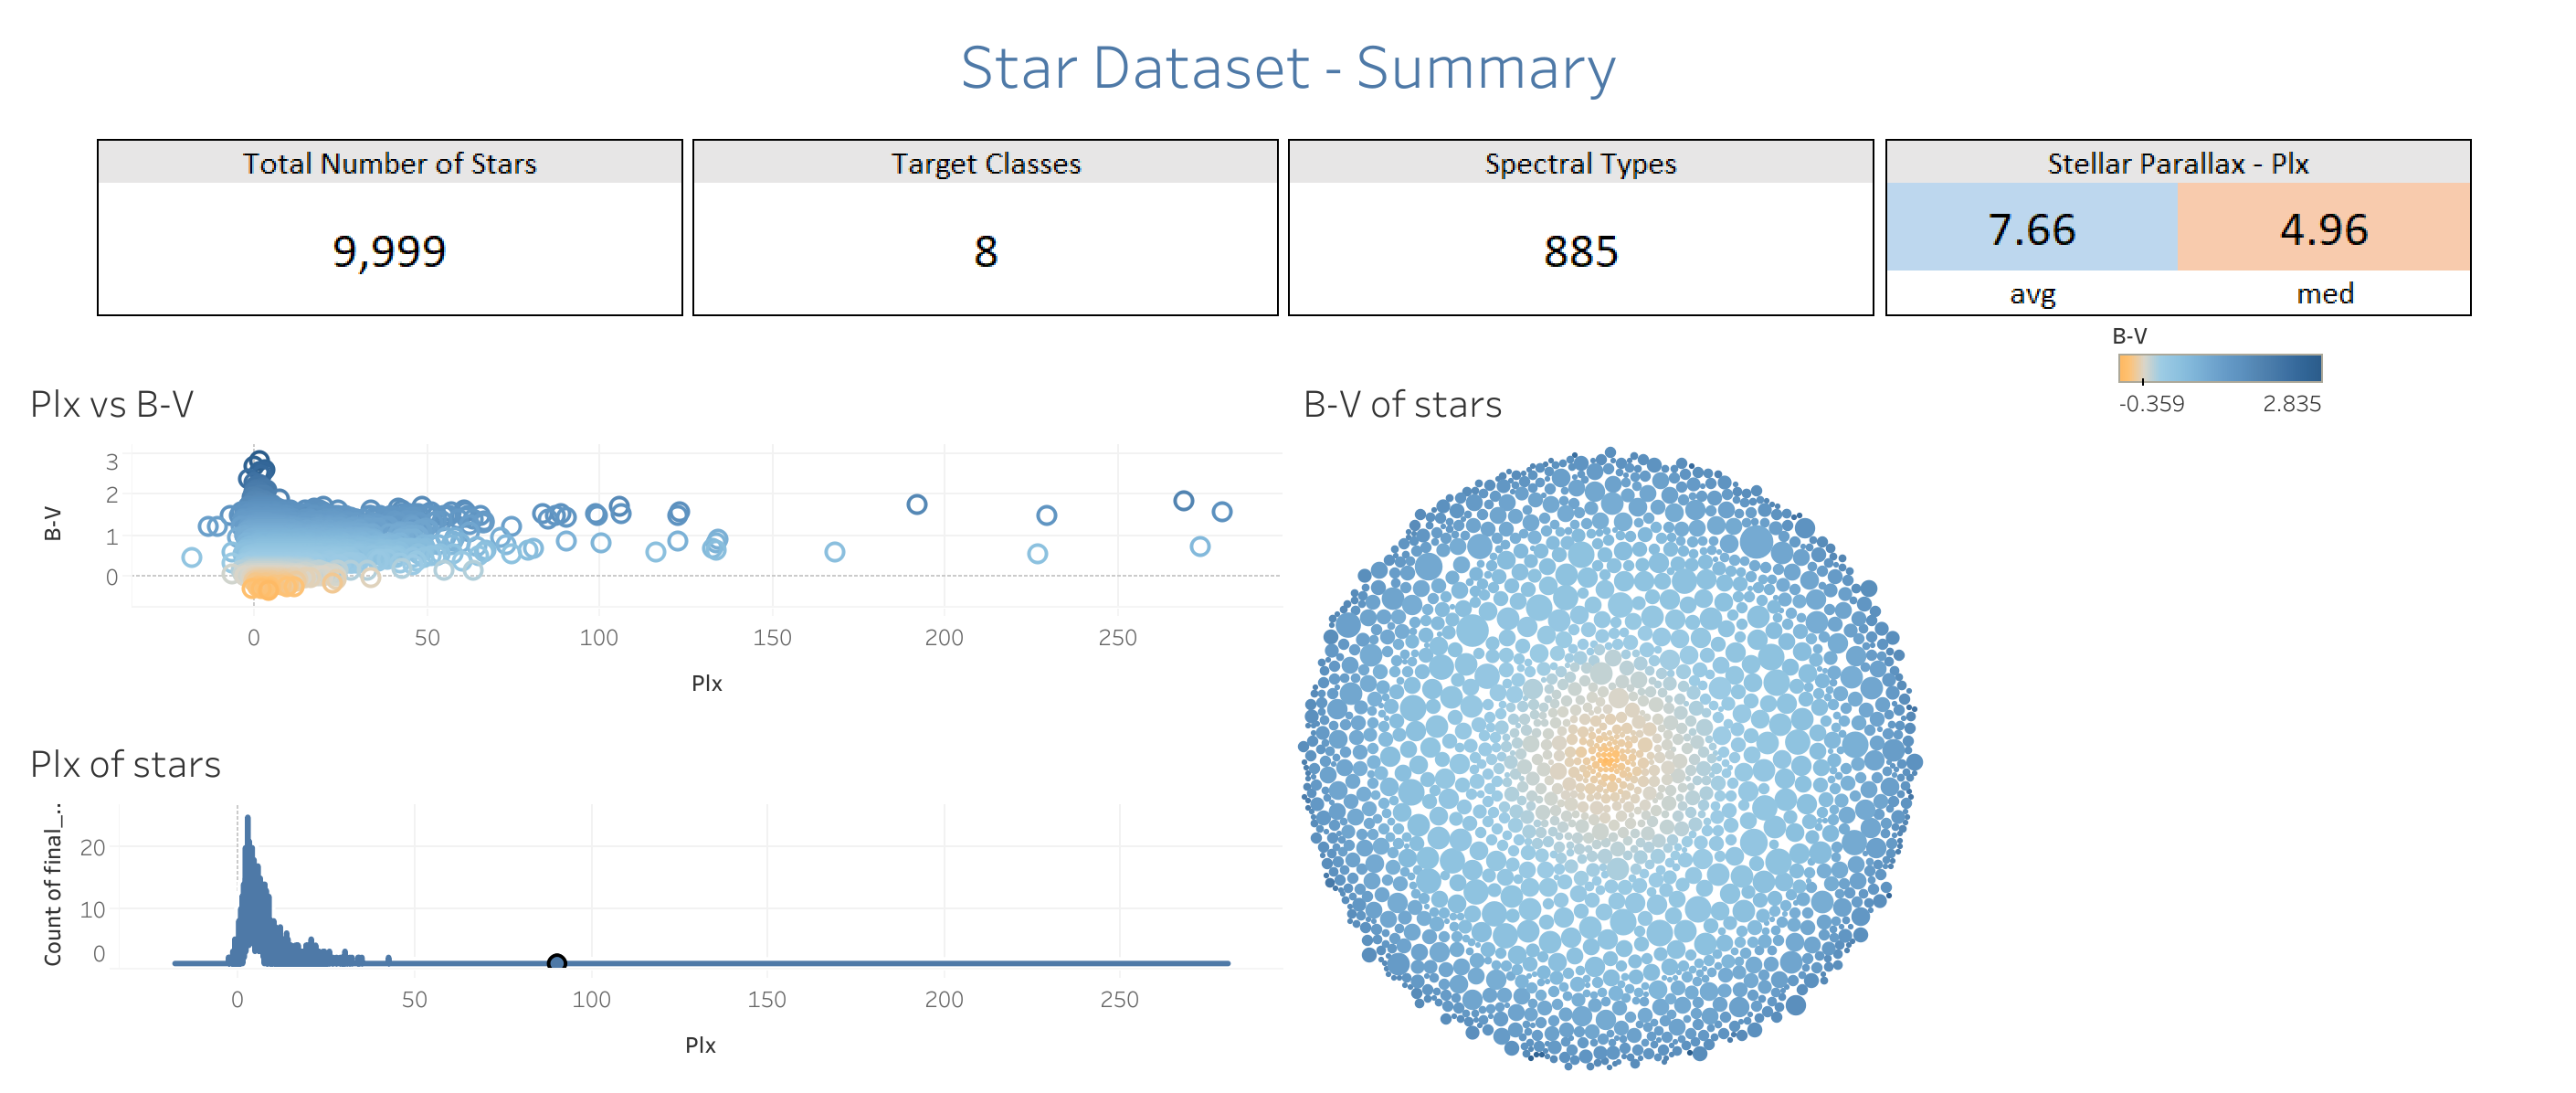

The page's visual inventory and layout, read from the dashboard file:
{"tool":"tableau","page":{"name":"HomeDash","canvas":[1000,1000],"units":"permille","ordinal":1},"visuals":[{"type":"text","box":[6.5,11.4,986.9,162.9]},{"type":"text","box":[6.5,174.2,986.9,491.5]},{"type":"dashboard-object","box":[6.5,665.7,986.9,156.5]},{"type":"dashboard-object","box":[6.5,822.2,986.9,166.4]}]}

Visuals, with their boxes on the dashboard's canvas, which has no fixed pixel size, in thousandths of its width and height (x1, y1, x2, y2). These are canvas units, not pixel positions in the 2576x1093 screenshot, which may show the page scaled, cropped or inside an application window:
text: crop(6, 11, 993, 174)
text: crop(6, 174, 993, 666)
dashboard-object: crop(6, 666, 993, 822)
dashboard-object: crop(6, 822, 993, 989)
